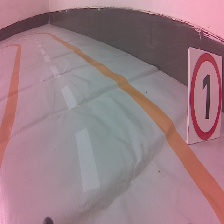limit: (185, 45, 223, 146)
